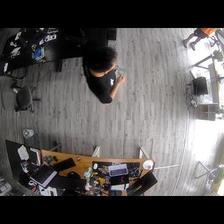normal: (80, 46, 126, 103)
